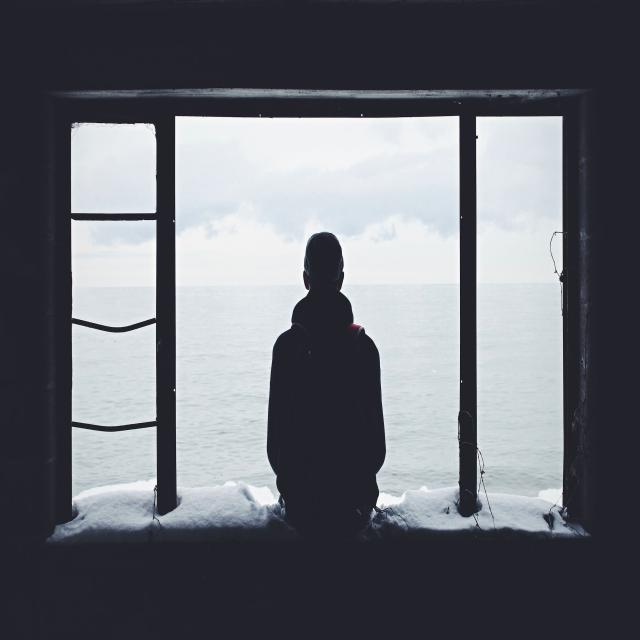adult: (264, 230, 390, 532)
